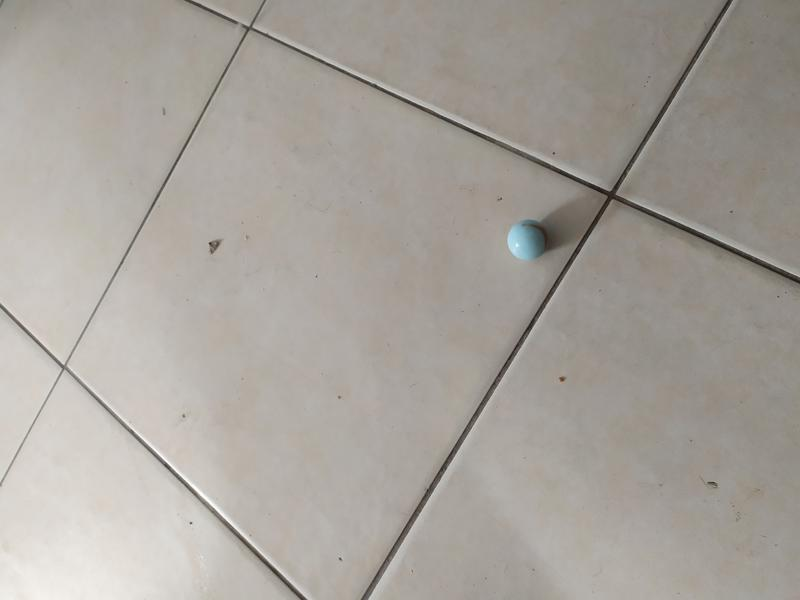Warning: (505, 216, 551, 263)
